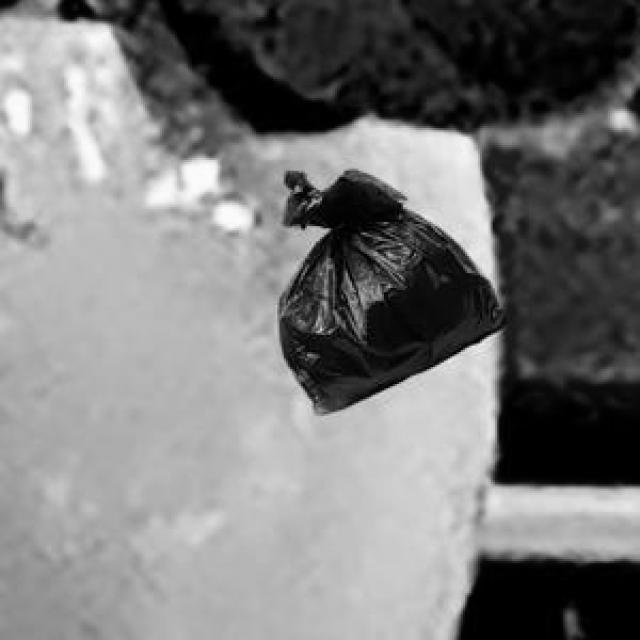miscellaneous trash: (275, 166, 501, 412)
